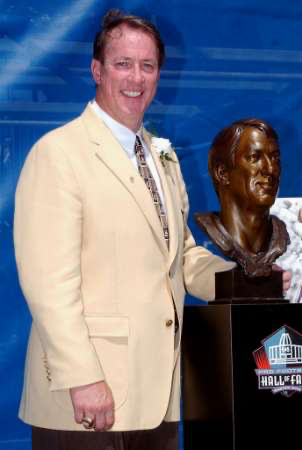Face: (102, 49, 158, 120)
